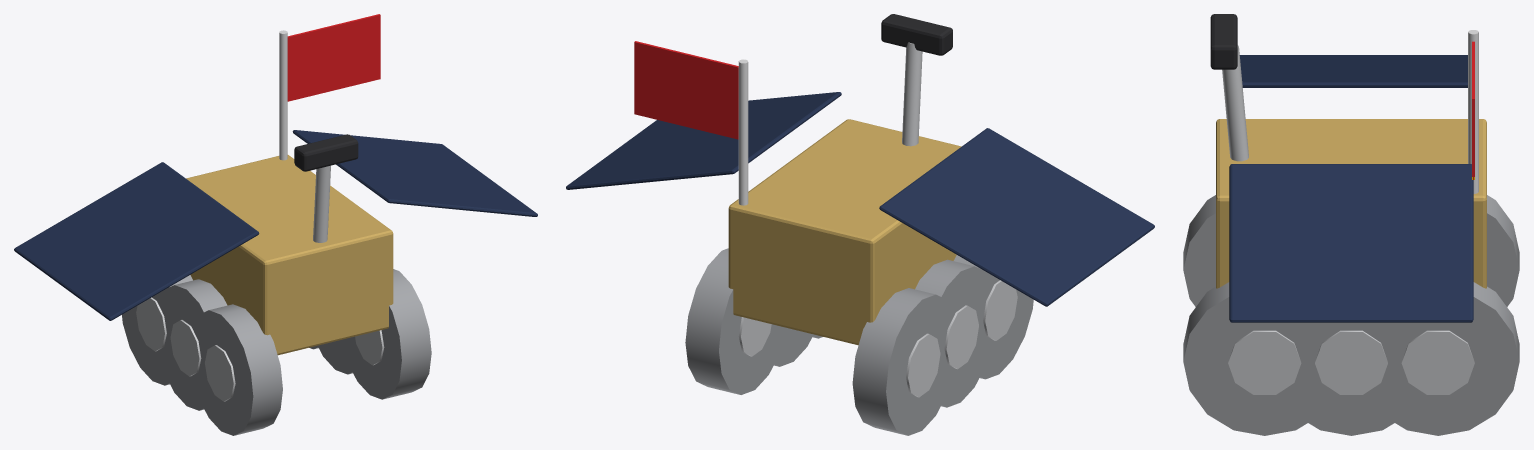
The model's file is mission-yutu.glb.
3 views of the same model, side by side, from view 1: azimuth 30°, elevation 25°; view 2: azimuth 150°, elevation 25°; view 3: azimuth 270°, elevation 25° (orthographic). The views are drawn at different scales.
Visible parts, largest first — view 1: bus, wing_-1, wing_1, w_0_-1_t, flagcloth, w_0_1_t, w_2_-1_t, w_1_-1_t, cam, w_1_-1_h, w_0_-1_h, w_2_-1_h (+4 smaller); view 2: bus, wing_-1, wing_1, w_2_-1_t, flagcloth, w_2_1_t, w_1_-1_t, w_0_-1_t, cam, mast, flagpole, w_2_-1_h (+4 smaller); view 3: wing_1, bus, w_0_1_t, w_2_1_t, w_1_1_t, wing_-1, w_1_1_h, w_0_1_h, w_2_1_h, w_0_-1_t, w_2_-1_t, mast (+3 smaller).
Part boxes in pixels (x1,y1,x2,y2): bus: (186, 155, 393, 355); wing_-1: (14, 162, 259, 320); wing_1: (292, 130, 537, 216); w_0_-1_t: (192, 304, 282, 435); flagcloth: (287, 14, 380, 101); w_0_1_t: (341, 269, 431, 399); w_2_-1_t: (122, 275, 192, 385); w_1_-1_t: (159, 279, 227, 410); cam: (294, 134, 358, 171); w_1_-1_h: (170, 320, 201, 376); w_0_-1_h: (205, 345, 235, 401); w_2_-1_h: (136, 297, 166, 351); bus: (728, 119, 961, 345); wing_-1: (879, 128, 1154, 306); wing_1: (566, 92, 841, 189); w_2_-1_t: (852, 288, 954, 435); flagcloth: (634, 41, 738, 139); w_2_1_t: (685, 248, 785, 394); w_1_-1_t: (915, 259, 979, 407); w_0_-1_t: (953, 255, 1033, 379); cam: (881, 14, 952, 55); mast: (902, 42, 922, 146); flagpole: (738, 59, 748, 205); w_2_-1_h: (906, 333, 940, 397); wing_1: (1229, 164, 1473, 322); bus: (1216, 119, 1486, 288); w_0_1_t: (1183, 282, 1337, 435); w_2_1_t: (1368, 282, 1519, 435); w_1_1_t: (1282, 322, 1424, 435); wing_-1: (1239, 55, 1467, 87); w_1_1_h: (1315, 330, 1387, 394); w_0_1_h: (1228, 330, 1301, 394); w_2_1_h: (1401, 330, 1474, 394); w_0_-1_t: (1183, 195, 1215, 306); w_2_-1_t: (1487, 195, 1519, 306); mast: (1222, 45, 1248, 161).
Bounding box in the file's own units: 2.89 × 1.95 × 1.55.
7 materials, 1 textured.
